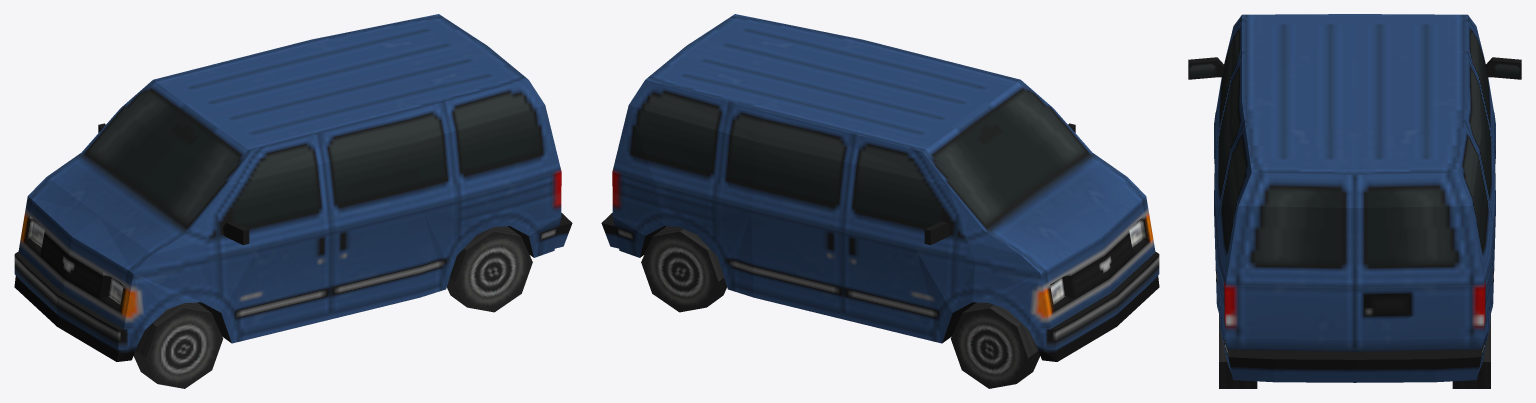
The model's file is Car4_o2.obj.
3 renders of one model, left to right at view 1: azimuth 30°, elevation 25°; view 2: azimuth 150°, elevation 25°; view 3: azimuth 270°, elevation 25°, orthographic. The views are drawn at different scales.
Visible parts, largest first — view 1: Car4; view 2: Car4; view 3: Car4.
Boxes of the visible parts, x1=… form: Car4: x1=14, y1=14, x2=572, y2=388; Car4: x1=601, y1=14, x2=1159, y2=388; Car4: x1=1188, y1=14, x2=1521, y2=388.
Bounding box in the file's own units: 3.67 × 1.6 × 1.98.
